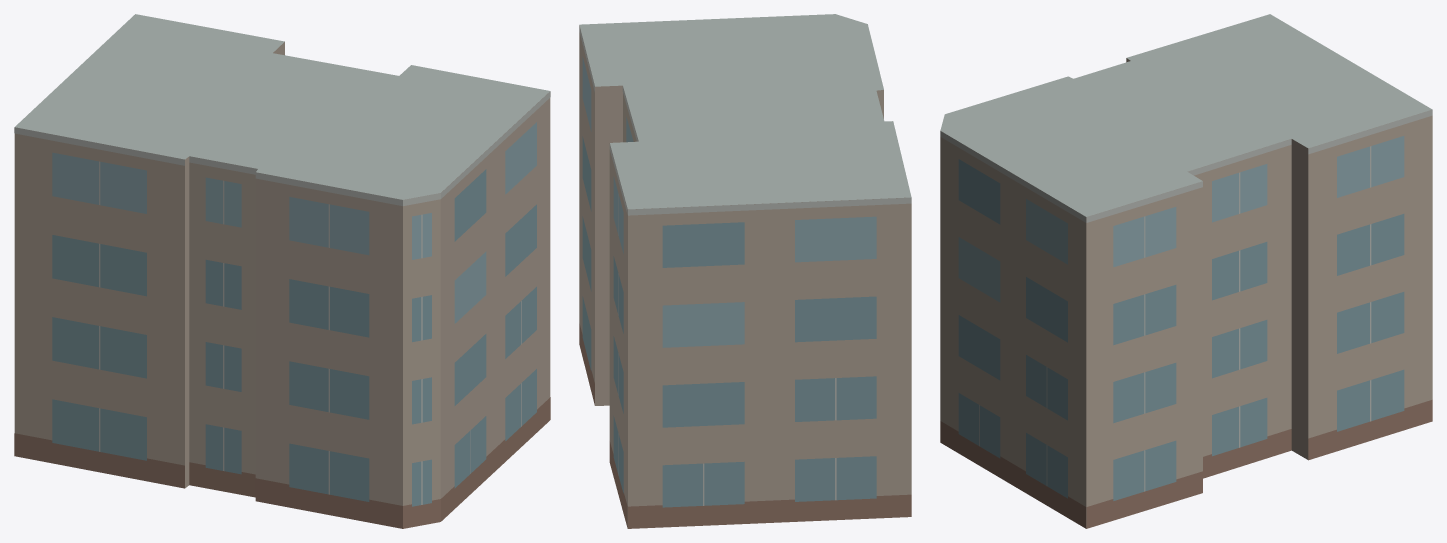
Rendered from survey-upis-32823535.glb.
3 views of the same model, side by side, from view 1: azimuth 30°, elevation 25°; view 2: azimuth 150°, elevation 25°; view 3: azimuth 270°, elevation 25° (orthographic). The views are drawn at different scales.
Parts seen in each view (by area): view 1: survey-upis-32823535.tmp; view 2: survey-upis-32823535.tmp; view 3: survey-upis-32823535.tmp.
Boxes of the visible parts, bbox=[...] form: survey-upis-32823535.tmp: bbox=[14, 14, 550, 528]; survey-upis-32823535.tmp: bbox=[579, 14, 911, 528]; survey-upis-32823535.tmp: bbox=[940, 14, 1432, 528].
Size of the model in its own units: 17.75 by 12.7 by 18.18.
